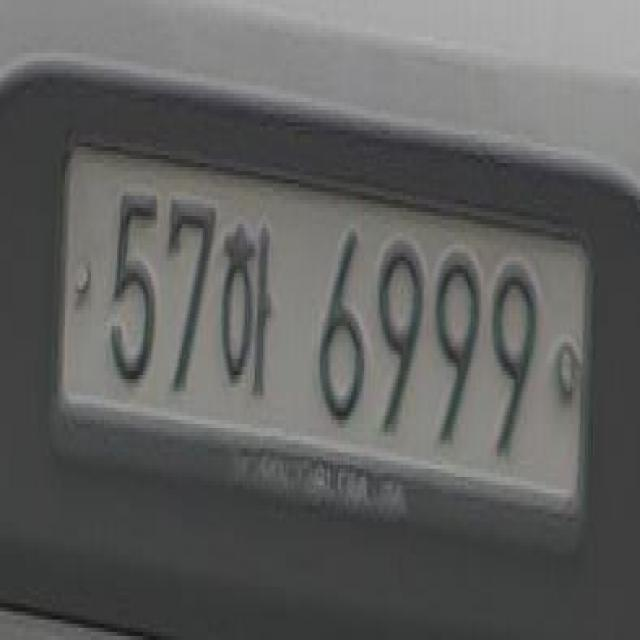5: (104, 180, 158, 392)
6: (312, 216, 365, 428)
7: (164, 182, 216, 408)
9: (370, 228, 424, 438), (430, 240, 483, 451), (487, 255, 540, 456)
ha: (220, 208, 278, 414)
license_plate: (50, 116, 601, 566)
